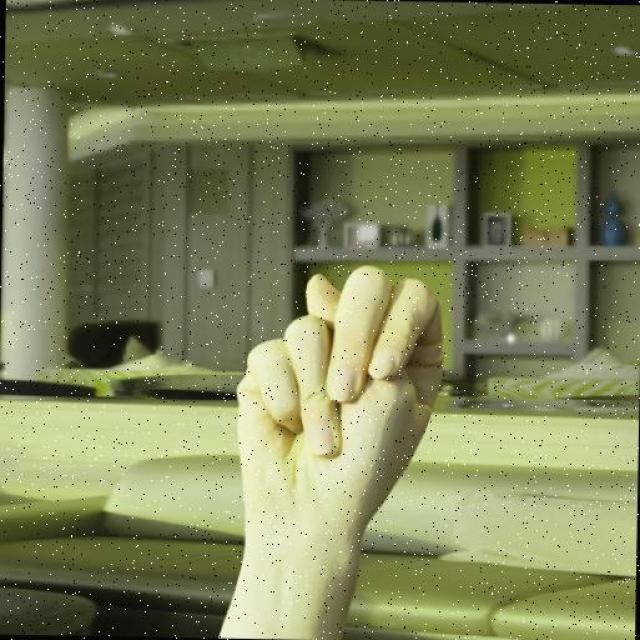N: (227, 259, 447, 535)
